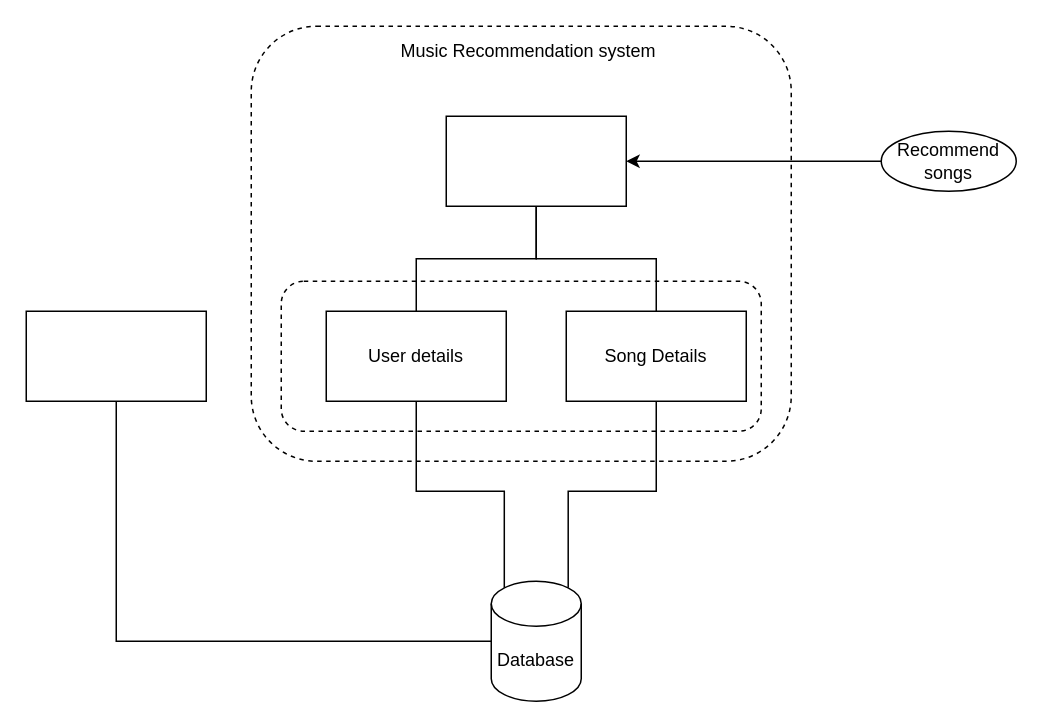
Image size: 1043x728. Some labels were removed from this diagram. The centre of each missing label's shape, as x and y in pixels:
"Collaborative Filtering System" belongs at (535,160).
"User" belongs at (115,355).
